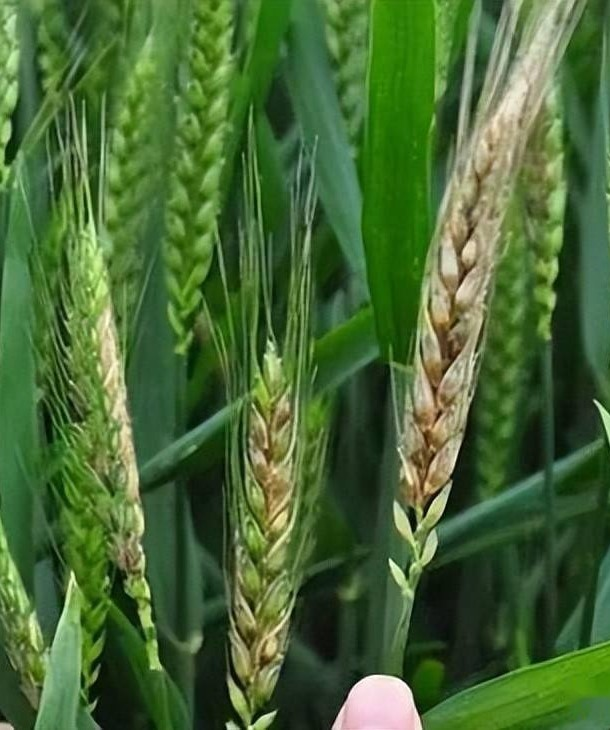Wheat scab: (392, 83, 536, 571), (214, 343, 309, 717)
